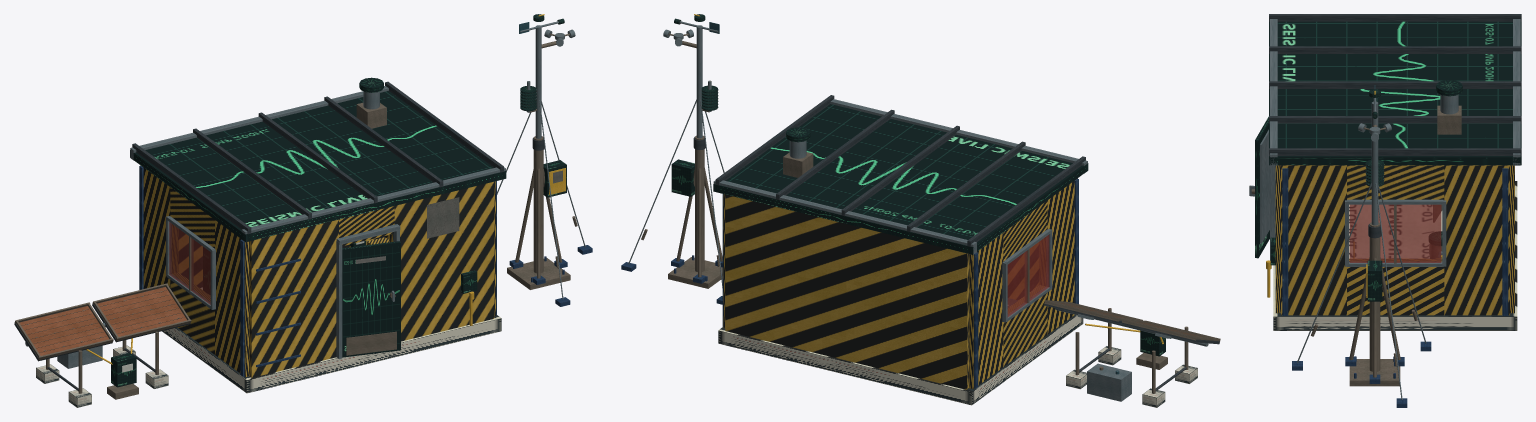
Rendered from PZ_Volcanic_Observatory_Complete_Kit.glb.
The picture shows the model from 3 angles, left to right: view 1: azimuth 30°, elevation 25°; view 2: azimuth 150°, elevation 25°; view 3: azimuth 270°, elevation 25°; orthographic projection. The views are drawn at different scales.
Visible parts, largest first — view 1: R_Roof_Weatherproof_Deck, R_Front_Wall_Left, R_Front_Wall_Right, R_Door_Solid_Steel_Leaf, R_Foundation_Slab, R_L_Side_Wall_Forward, R_L_Side_Wall_Back, R_Panel_0_Photovoltaic_Layer, R_Panel_1_Photovoltaic_Layer, R_L_Tinted_Glazing, R_L_Window_Sill_Wall, R_Roof_Edge_Trim_0 (+20 smaller); view 2: R_Rear_Wall, R_Roof_Weatherproof_Deck, R_Foundation_Slab, R_L_Side_Wall_Back, R_L_Side_Wall_Forward, R_L_Tinted_Glazing, R_L_Window_Sill_Wall, R_Roof_Edge_Trim_1, R_Roof_Edge_Trim_0, R_Solar_Battery_Case, R_L_Window_Header_Wall, R_Front_Wall_Left (+12 smaller); view 3: R_Roof_Weatherproof_Deck, R_R_Side_Wall_Back, R_R_Side_Wall_Forward, R_Foundation_Slab, R_R_Tinted_Glazing, R_R_Window_Sill_Wall, R_R_Window_Header_Wall, R_Roof_Rib_1, R_Roof_Rib_0, R_Roof_Rib_4, R_Roof_Rib_2, R_Roof_Rib_3 (+26 smaller).
Part boxes in pixels (box(x1,y1,x2,y2)): R_Roof_Weatherproof_Deck: box(130, 90, 506, 241); R_Front_Wall_Left: box(249, 219, 338, 377); R_Front_Wall_Right: box(390, 181, 494, 341); R_Door_Solid_Steel_Leaf: box(342, 241, 400, 357); R_Foundation_Slab: box(162, 287, 501, 393); R_L_Side_Wall_Forward: box(215, 220, 249, 376); R_L_Side_Wall_Back: box(143, 167, 177, 288); R_Panel_0_Photovoltaic_Layer: box(19, 306, 109, 355); R_Panel_1_Photovoltaic_Layer: box(97, 287, 186, 336); R_L_Tinted_Glazing: box(169, 222, 210, 304); R_L_Window_Sill_Wall: box(170, 272, 214, 354); R_Roof_Edge_Trim_0: box(241, 167, 505, 241); R_Rear_Wall: box(725, 194, 969, 389); R_Roof_Weatherproof_Deck: box(713, 104, 1088, 254); R_Foundation_Slab: box(718, 298, 1083, 405); R_L_Side_Wall_Back: box(969, 233, 1003, 389); R_L_Side_Wall_Forward: box(1040, 178, 1077, 334); R_L_Tinted_Glazing: box(1007, 234, 1049, 317); R_L_Window_Sill_Wall: box(1003, 285, 1047, 366); R_Roof_Edge_Trim_1: box(713, 180, 976, 254); R_Roof_Edge_Trim_0: box(830, 99, 1087, 173); R_Solar_Battery_Case: box(1087, 363, 1131, 401); R_L_Window_Header_Wall: box(1003, 200, 1047, 261); R_Front_Wall_Left: box(1008, 242, 1039, 299); R_Roof_Weatherproof_Deck: box(1269, 21, 1521, 165); R_R_Side_Wall_Back: box(1444, 165, 1509, 315); R_R_Side_Wall_Forward: box(1281, 165, 1346, 315); R_Foundation_Slab: box(1273, 181, 1517, 330); R_R_Tinted_Glazing: box(1349, 204, 1441, 262); R_R_Window_Sill_Wall: box(1347, 258, 1444, 315); R_R_Window_Header_Wall: box(1347, 165, 1444, 199); R_Roof_Rib_1: box(1269, 46, 1521, 53); R_Roof_Rib_0: box(1269, 14, 1521, 21); R_Roof_Rib_4: box(1269, 148, 1521, 155); R_Roof_Rib_2: box(1269, 81, 1521, 88); R_Roof_Rib_3: box(1269, 116, 1521, 123).
Bounding box in the file's own units: 11.38 × 4.94 × 4.28.
Materials: 2 (2 with a texture image).
